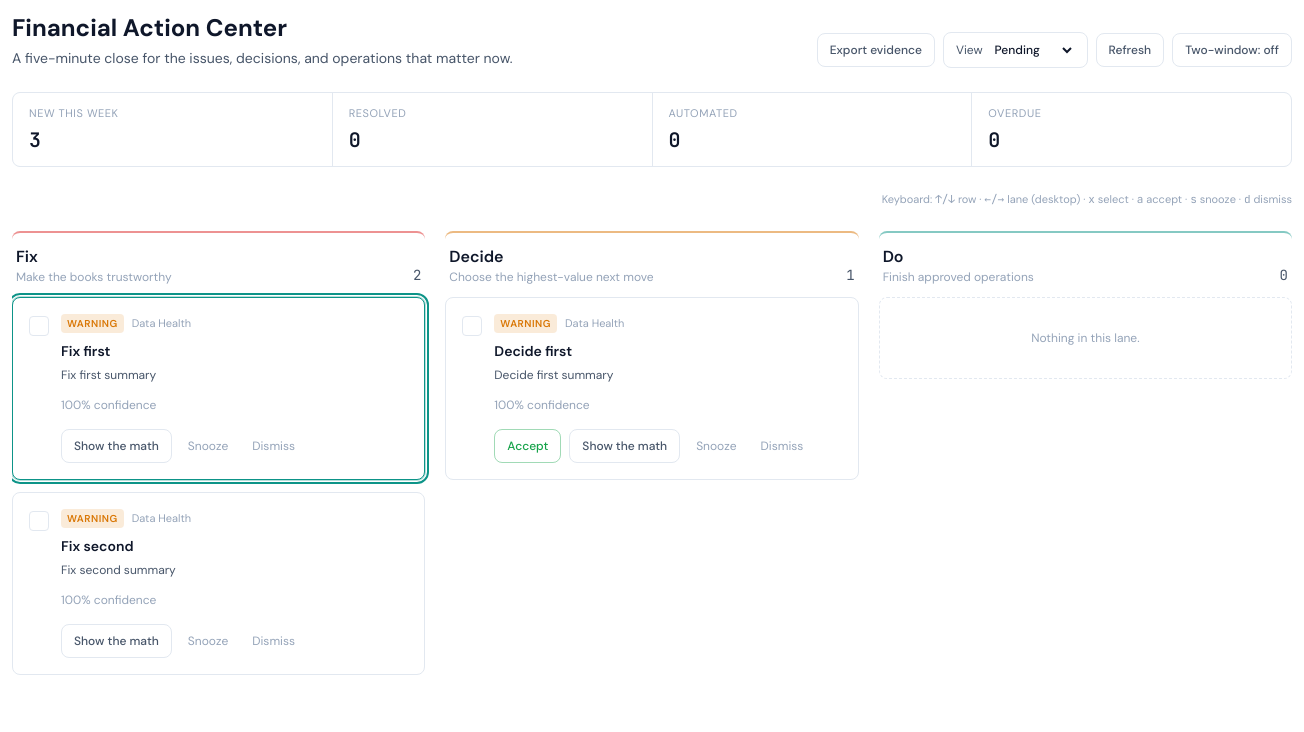
it: FinancialActionCenterPage mutations › keeps focus in the same Fix slot when the focused card is dismissed
Click the button "Dismiss" below "Fix first summary": (274, 446) left=244, top=430, right=303, bottom=462
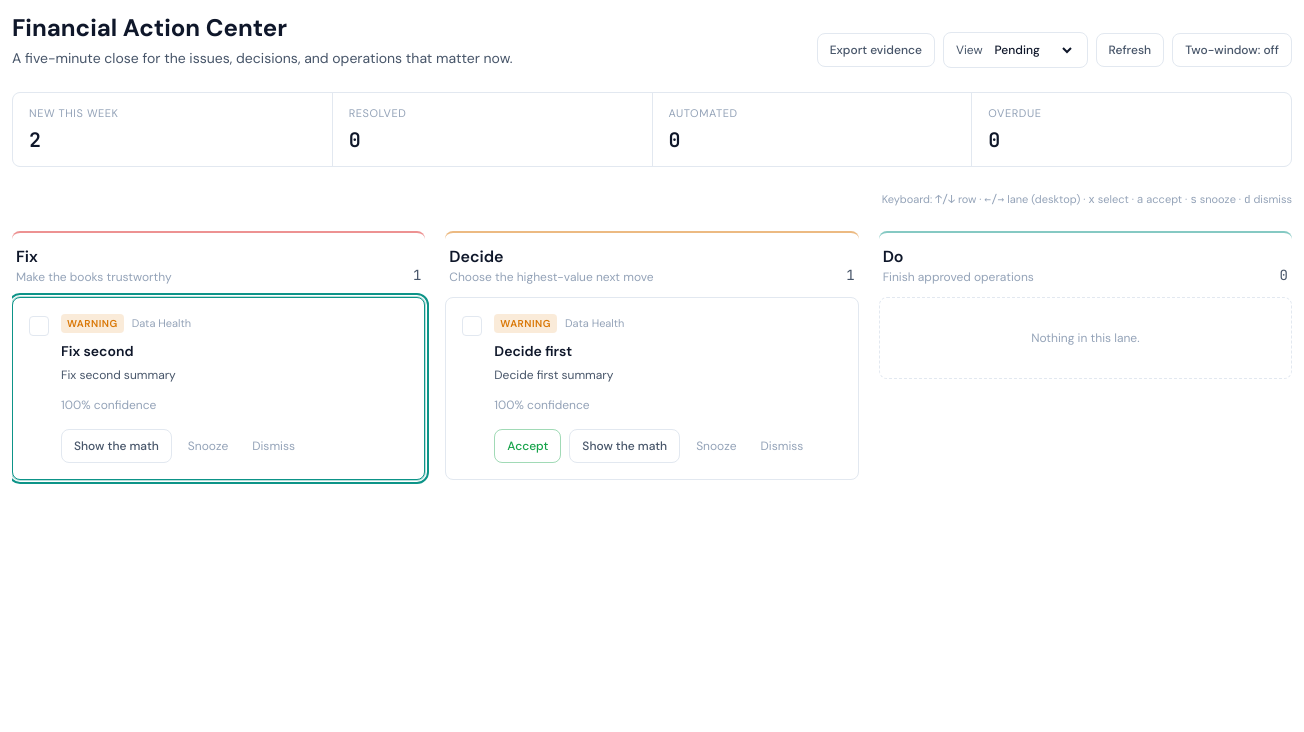
Expected: the heading "Fix first" is gone
